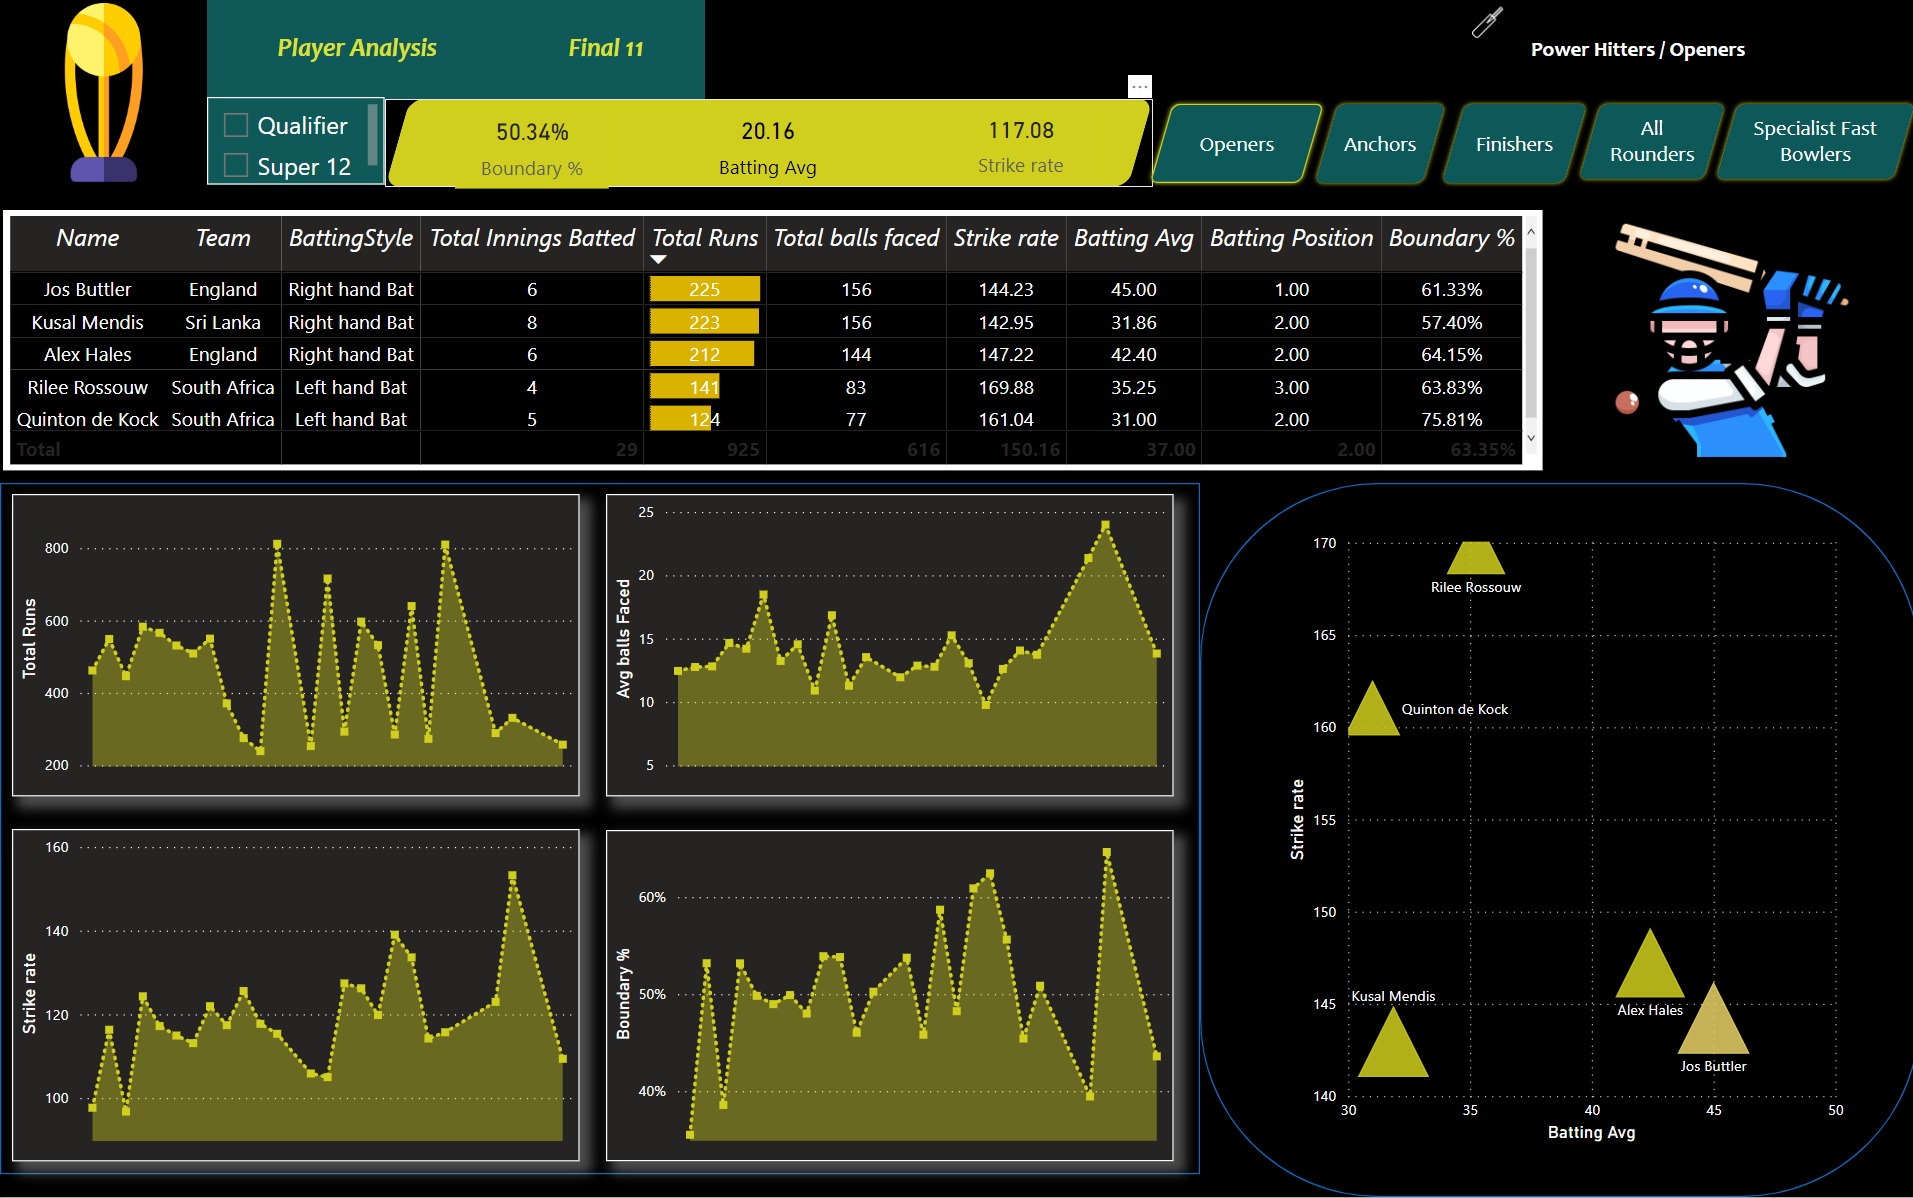

Layout of this report page (visuals, bound fields, positions):
{"tool":"powerbi","page":{"name":"Project/power","canvas":[1600,1000],"ordinal":0},"visuals":[{"type":"group","id":"g1","title":"Group 2","box":[1276,0,324.3,86.2],"z":0,"group":"g2"},{"type":"shape","box":[1276,0,324.3,86.2],"z":0,"group":"g1"},{"type":"shape","box":[321,85.1,639.5,72.9],"z":0},{"type":"image","box":[1221.8,0,35.9,41.6],"z":1000,"group":"g2"},{"type":"card","fields":{"Values":["key_measures.Avg balls Faced"]},"box":[507,86.3,133.7,72.9],"z":1000},{"type":"card","fields":{"Values":["key_measures.Strike rate"]},"box":[784.2,86.3,132.5,69.3],"z":2000},{"type":"card","fields":{"Values":["key_measures.Boundary %"]},"box":[379.3,86.3,127.7,72.9],"z":3000},{"type":"card","fields":{"Values":["key_measures.Batting Avg"]},"box":[640.7,86.3,143.5,69.3],"z":4000},{"type":"actionButton","title":"Button Player Ana selected","box":[172.4,0,250,85],"z":5000},{"type":"actionButton","title":"Button Player Ana selected","box":[422.4,0,165,85],"z":6000},{"type":"actionButton","box":[954.4,85.1,153.2,74.2],"z":7000},{"type":"actionButton","box":[1091.3,85.3,116.9,74.2],"z":8000},{"type":"actionButton","box":[1197.6,85.1,128.9,74.2],"z":9000},{"type":"actionButton","box":[1311.9,85.1,130.1,70.5],"z":10000},{"type":"actionButton","box":[1426.1,85.1,173.9,70.5],"z":11000},{"type":"slicer","fields":{"Values":["Dim_match_summary.stage"]},"box":[172.6,85.1,148.3,72.9],"z":12000},{"type":"tableEx","fields":{"Values":["Dim_players.name","Dim_players.team","Dim_players.battingStyle","key_measures.Total Innings Batted","key_measures.Total Runs","key_measures.total balls faced","key_measures.Strike rate","key_measures.Batting Avg","key_measures.Batting Position","key_measures.Boundary %"]},"box":[2.5,177.3,1283.3,216.7],"z":13000},{"type":"group","id":"g2","title":"Group 1","box":[1221.8,0,378,86.2],"z":14000},{"type":"shape","box":[0,405.2,1000,576.4],"z":15000},{"type":"areaChart","fields":{"Y":["key_measures.Batting Avg"],"Category":["Dim_match_summary.matchDate"]},"box":[9.9,413.8,472.9,252.5],"z":16000},{"type":"areaChart","fields":{"Y":["key_measures.Avg balls Faced"],"Category":["Dim_match_summary.matchDate"]},"box":[504.9,413.8,472.9,252.5],"z":17000},{"type":"areaChart","fields":{"Y":["key_measures.Strike rate"],"Category":["Dim_match_summary.matchDate"]},"box":[9.9,693.3,472.9,277.1],"z":18000},{"type":"areaChart","fields":{"Y":["key_measures.Boundary %"],"Category":["Dim_match_summary.matchDate"]},"box":[504.9,694.6,472.9,275.9],"z":19000},{"type":"shape","box":[1000,405.2,599.8,594.8],"z":20000},{"type":"scatterChart","fields":{"X":["key_measures.Batting Avg"],"Y":["key_measures.Strike rate"],"Category":["Dim_players.name"],"Size":["key_measures.Total Runs"]},"box":[1067.7,440.9,474.1,518.5],"z":21000},{"type":"image","box":[1285.7,177.3,314,216.7],"z":22000},{"type":"image","box":[0,0,172.4,158.9],"z":23000}]}

Visuals, with their boxes in screenshot pixels (x1, y1, x2, y2), scaled from the page's 1600x1000 canvas onto the 1913x1198 screenshot:
"Group 2" group: 1526 0 1912 103
shape: 1526 0 1912 103
shape: 384 102 1148 189
image: 1461 0 1504 50
card - key_measures.Avg balls Faced: 606 103 766 191
card - key_measures.Strike rate: 938 103 1096 186
card - key_measures.Boundary %: 454 103 606 191
card - key_measures.Batting Avg: 766 103 938 186
"Button Player Ana selected" actionButton: 206 0 505 102
"Button Player Ana selected" actionButton: 505 0 702 102
actionButton: 1141 102 1324 191
actionButton: 1305 102 1445 191
actionButton: 1432 102 1586 191
actionButton: 1569 102 1724 186
actionButton: 1705 102 1912 186
slicer - Dim_match_summary.stage: 206 102 384 189
tableEx - Dim_players.name x Dim_players.team: 3 212 1537 472
"Group 1" group: 1461 0 1912 103
shape: 0 485 1196 1176
areaChart - key_measures.Batting Avg x Dim_match_summary.matchDate: 12 496 577 798
areaChart - key_measures.Avg balls Faced x Dim_match_summary.matchDate: 604 496 1169 798
areaChart - key_measures.Strike rate x Dim_match_summary.matchDate: 12 831 577 1163
areaChart - key_measures.Boundary % x Dim_match_summary.matchDate: 604 832 1169 1163
shape: 1196 485 1912 1197
scatterChart - key_measures.Batting Avg x key_measures.Strike rate: 1277 528 1843 1149
image: 1537 212 1912 472
image: 0 0 206 190
